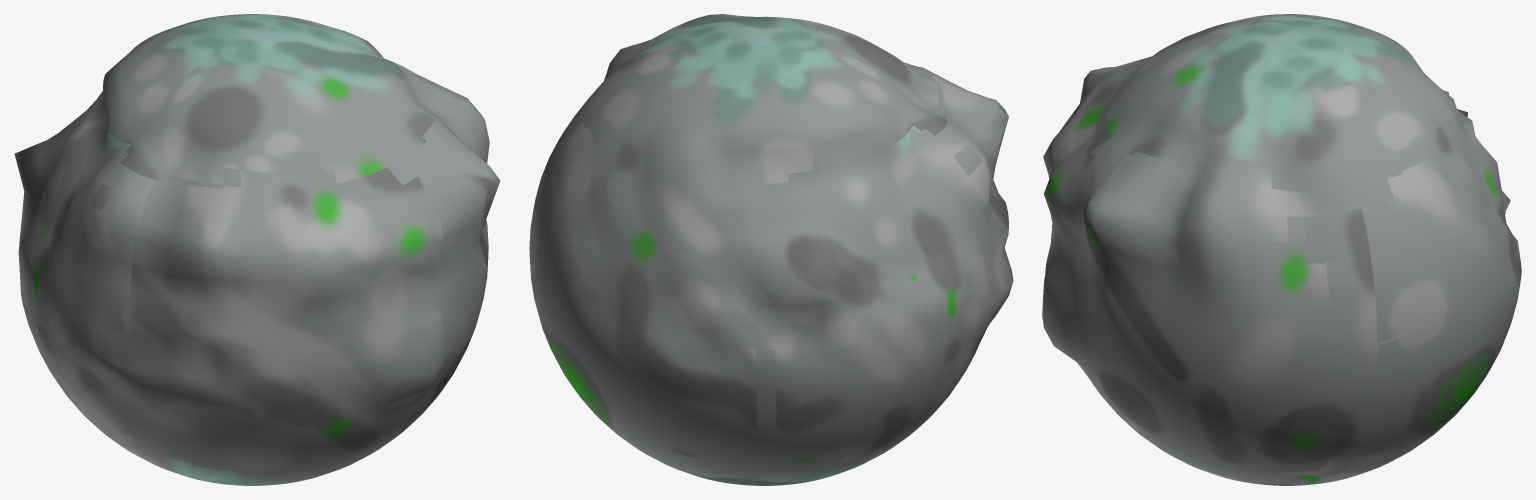
Rendered from aaronplanet.fbx.
The picture shows the model from 3 angles, left to right: view 1: azimuth 30°, elevation 25°; view 2: azimuth 150°, elevation 25°; view 3: azimuth 270°, elevation 25°; orthographic projection.
Parts seen in each view (by area): view 1: Sphere; view 2: Sphere; view 3: Sphere.
Part boxes in pixels (left/top/right/bottom): Sphere: left=14, top=14, right=500, bottom=485; Sphere: left=529, top=14, right=1013, bottom=485; Sphere: left=1042, top=14, right=1521, bottom=485.
Size of the model in its own units: 200 by 200 by 203.
